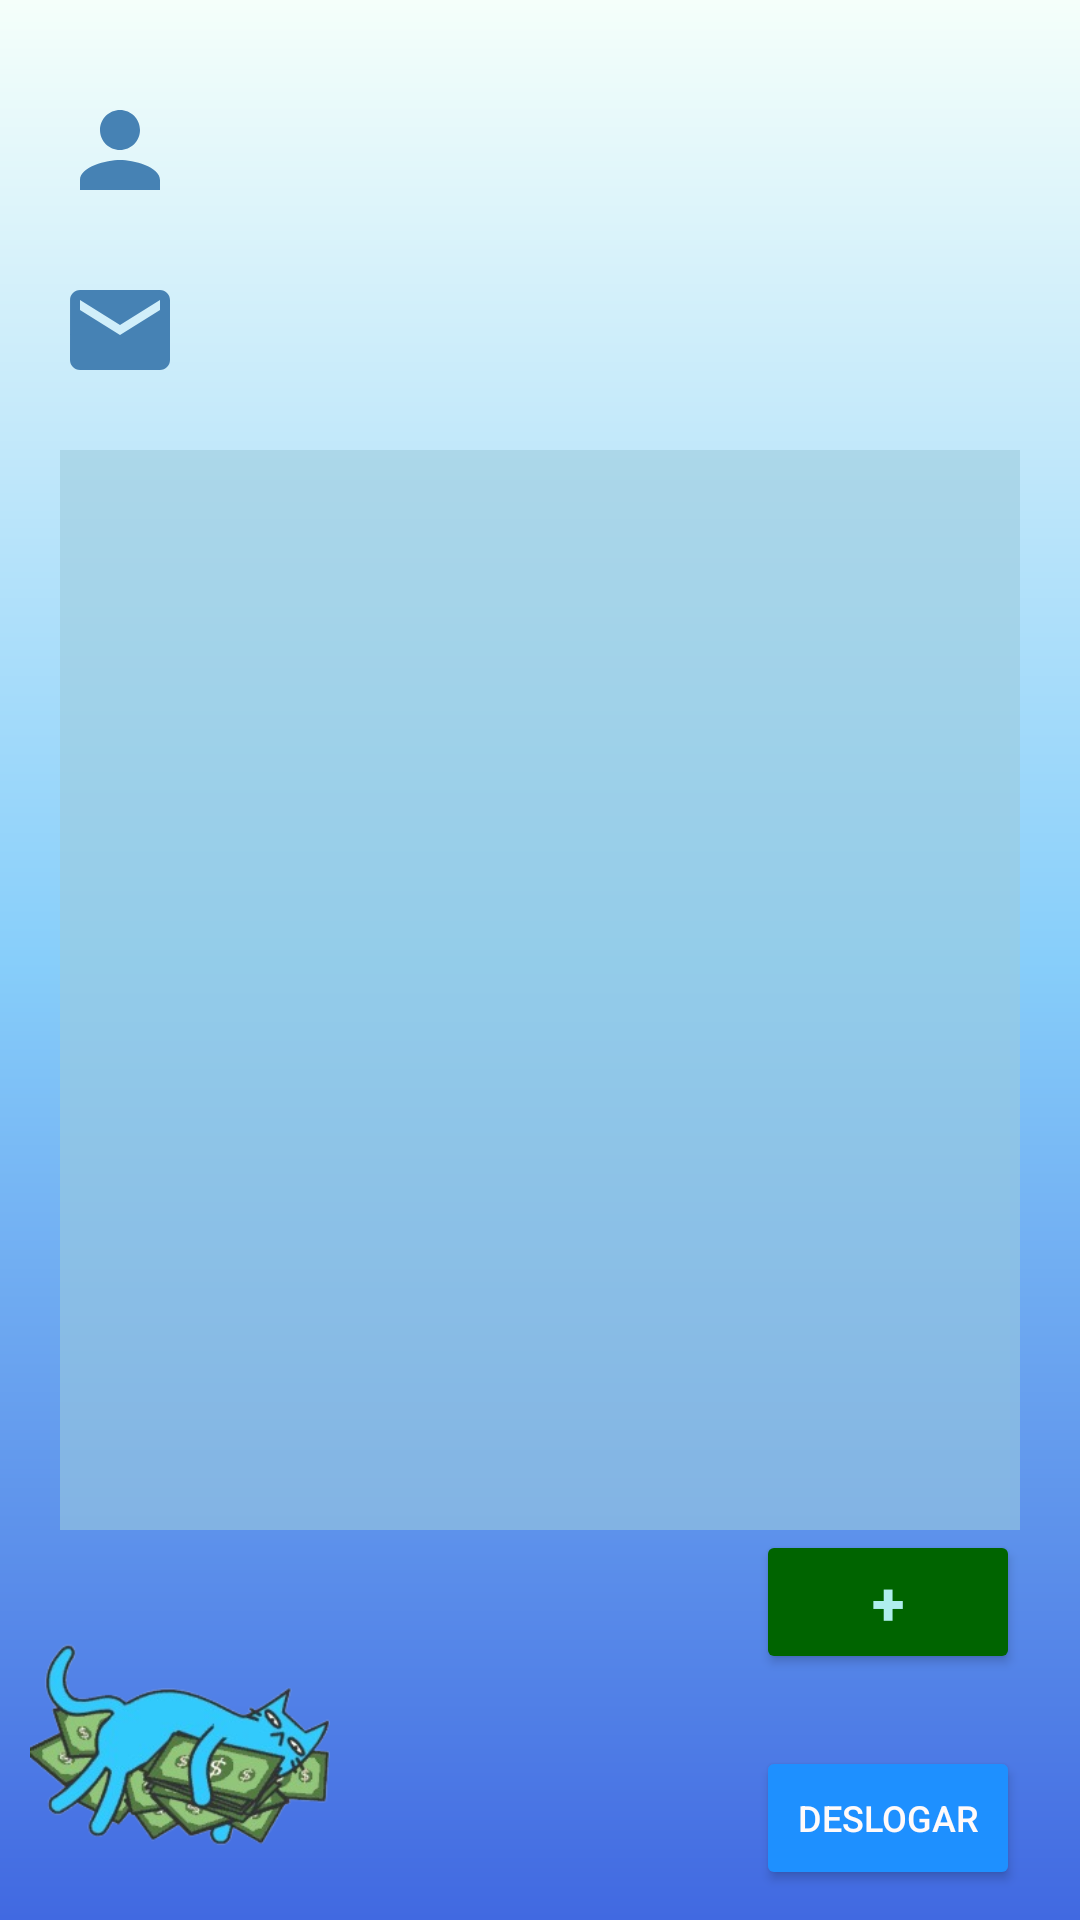

Where to tap for icons on this 1080 x 1920 app screen, as (x=x, y=y):
email: (x=120, y=330)
user: (x=120, y=150)
